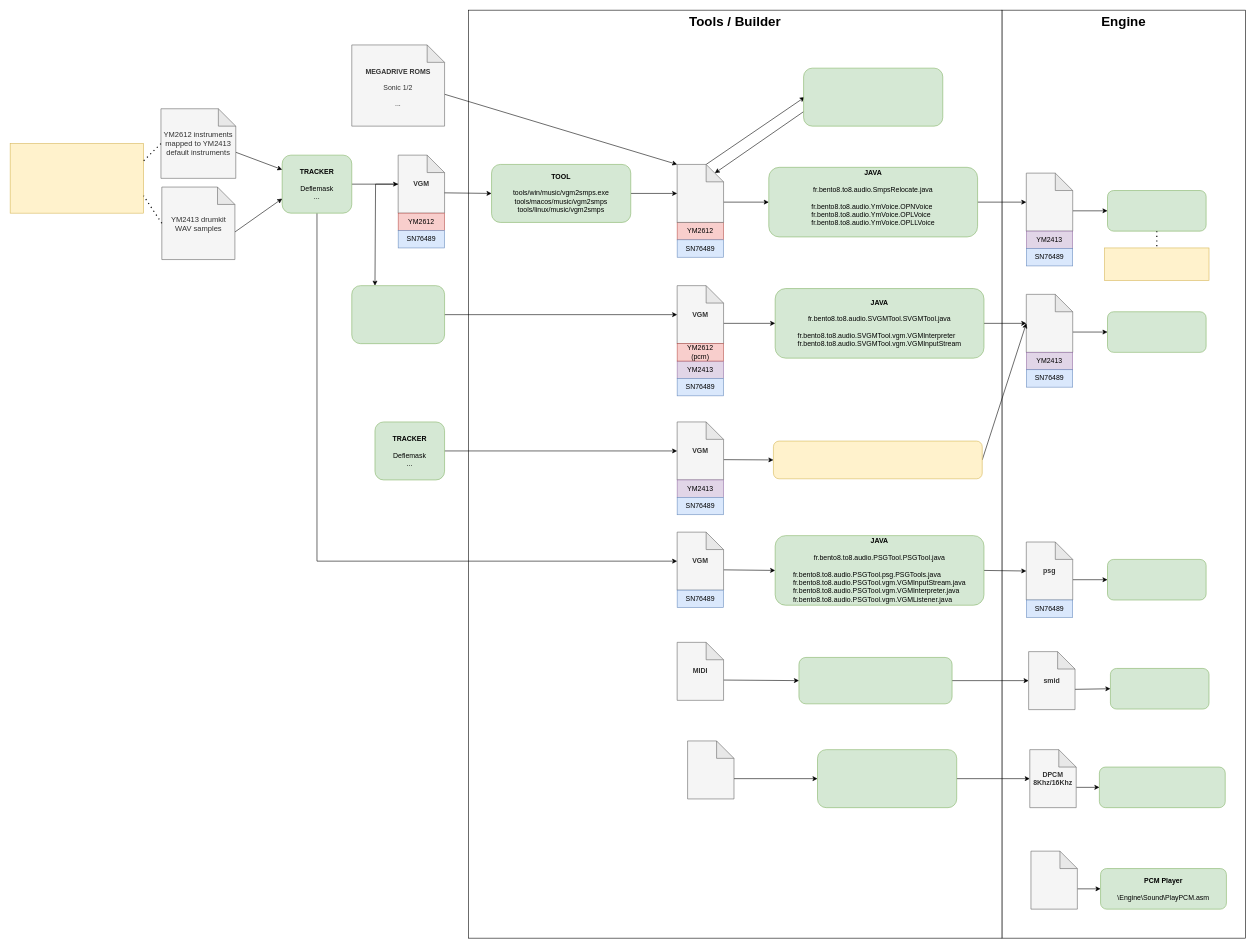
Some shapes in this 1256 by 948 pixel diagram are drawn without their labels. Here are the shapes that lost their labels. From the top down, the box of each, then its label:
(803, 68, 943, 126): TOOL (Optional) tools/win/music/SMPSOpt.exe Optimize SMPS file size
(10, 143, 144, 213): TODO documents placed in tutoria, need to move this somewhere in the repository
(677, 164, 724, 222): SMPS (SEGA)
(1026, 173, 1073, 231): smps
(1107, 190, 1206, 231): SMPS Driver \Engine\Sound\Smps.asm \Engine\Sound\Smps_S1.asm
(1104, 247, 1209, 280): TODO Need to merge the two files
(351, 285, 445, 344): external TOOL vgm-conv (node.js)
(1026, 294, 1073, 352): svgm
(1107, 311, 1206, 352): SVGM Driver \Engine\Sound\Svgm.asm
(773, 441, 982, 479): JAVA TODO
(1107, 559, 1206, 600): PSGlib Driver \Engine\Sound\PSGlib.asm
(798, 657, 952, 704): JAVA fr.bento8.to8.audio.midi.MidiConverter.java
(1110, 668, 1209, 709): Midi Driver \Engine\Sound\Smidi.asm
(687, 740, 734, 799): PCM 8Khz/16Khz
(817, 749, 957, 808): TOOL tools/win/music/pcm2dpcm.exe tools/macos/music/pcm2dpcm
(1099, 766, 1225, 808): DPCM Player \Engine\Sound\PlayDPCM16kHz.asm \Engine\Sound\PlayDPCM8kHz.asm
(1030, 851, 1077, 909): PCM 16Khz
